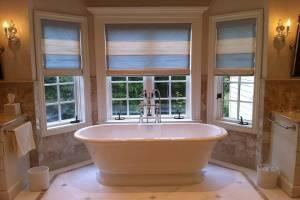window: (35, 11, 255, 129)
